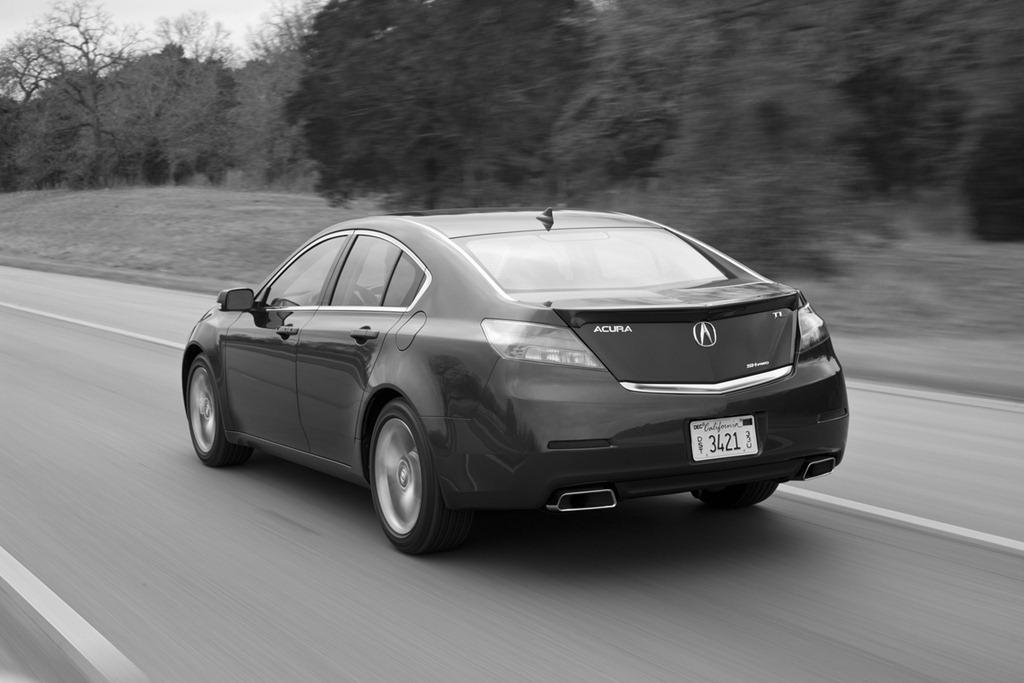car: (168, 172, 877, 592)
